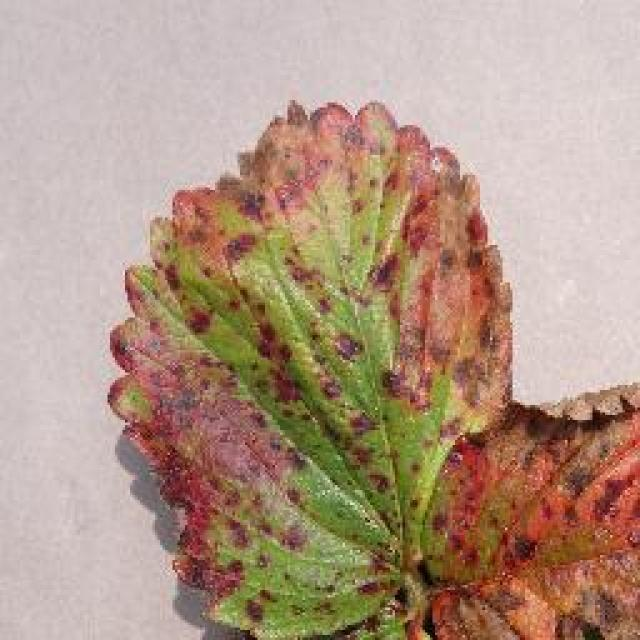Strawberry leaf scorch: (150, 163, 618, 595)
